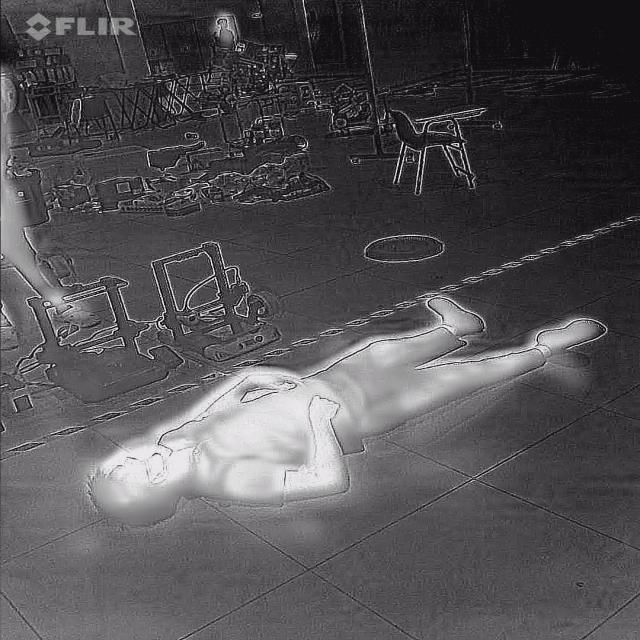Victim: (80, 292, 614, 534)
